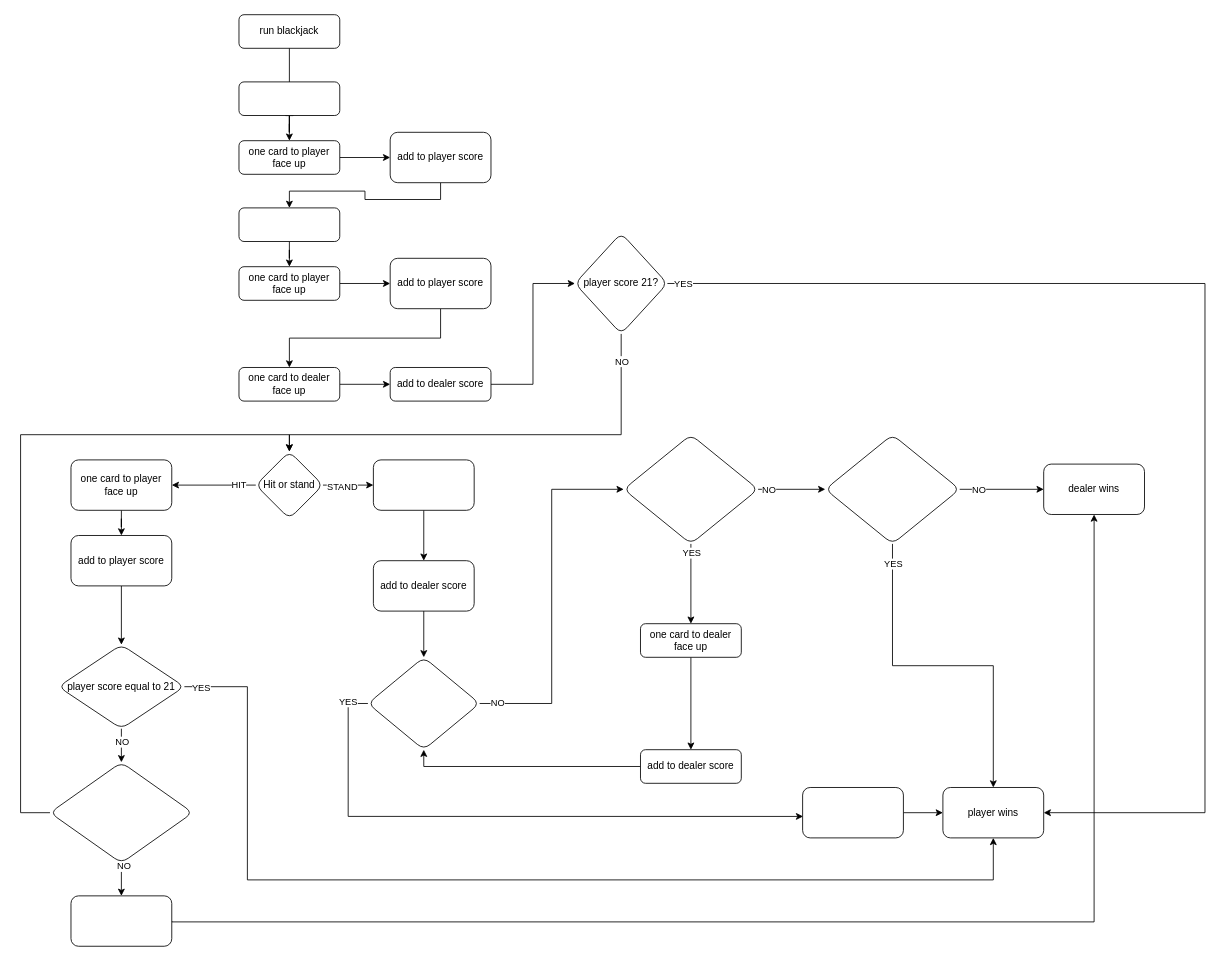
This 1226x961 diagram has some shape labels left out. Here are the shapes that lost their labels. From the top down, the box of each, then its label:
(238, 81, 340, 116): display logo
(238, 207, 340, 242): one card to dealer face down
(373, 459, 474, 510): show hidden dealer card
(623, 434, 758, 544): Dealer score less than 17?
(824, 434, 960, 544): player score greater than dealer score
(367, 656, 480, 750): Dealer Score greater than 21
(49, 761, 193, 863): player score less than 22?
(802, 787, 903, 838): Dealer bust
(70, 895, 172, 946): Player Bust
